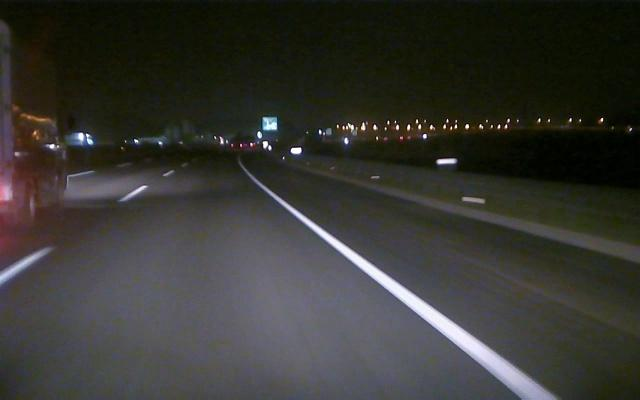lane: (247, 174, 561, 399), (1, 186, 145, 284)
